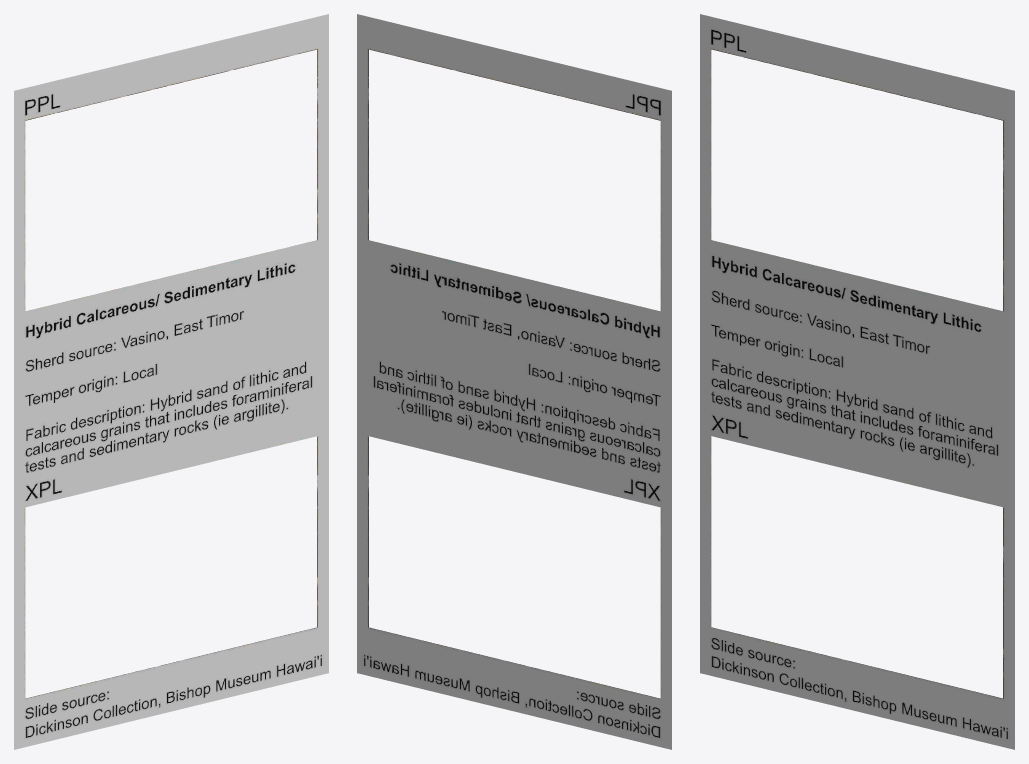
Rendered from wd_86_17_frame.glb.
3 views of the same model, side by side, from view 1: azimuth 30°, elevation 25°; view 2: azimuth 150°, elevation 25°; view 3: azimuth 330°, elevation 25° (orthographic).
Visible parts, largest first — view 1: WD_86_17; view 2: WD_86_17; view 3: WD_86_17.
Part boxes in pixels (x1,y1,x2,y2): WD_86_17: (14,14,328,749); WD_86_17: (357,14,671,749); WD_86_17: (700,14,1014,749).
Size of the model in its own units: 0.5 by 1 by 4.37e-08.
1 material, 1 textured.
